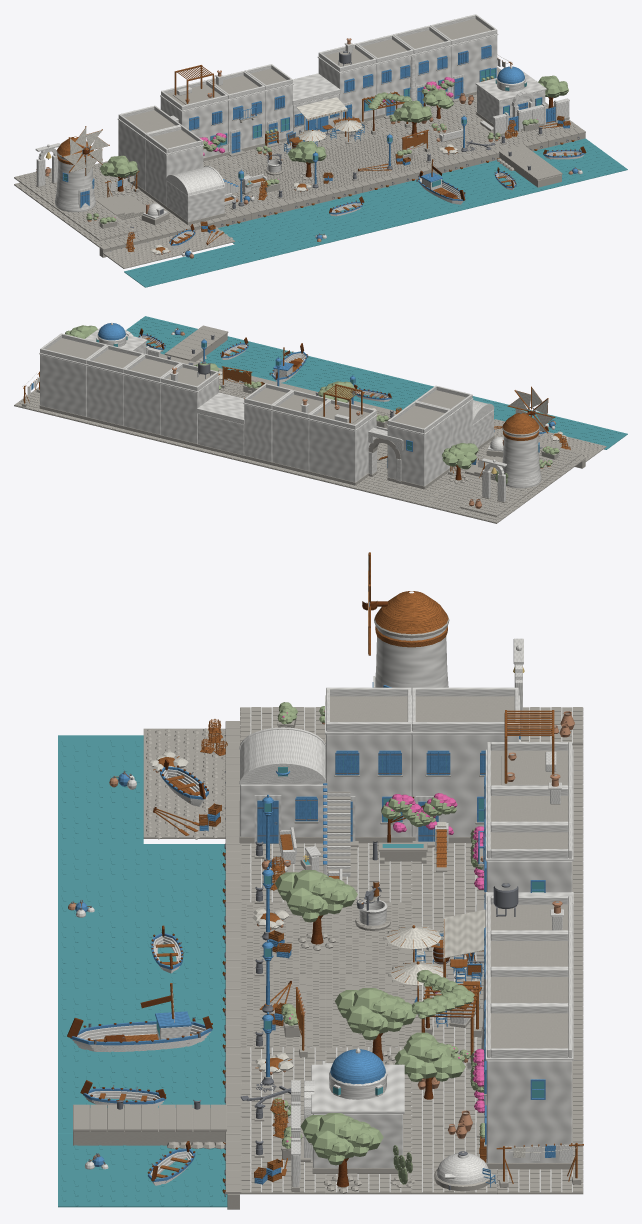
The model's file is greek-island-village-and-harbour-island--f1d7f415-starter-scene.glb.
3 views of the same model, one above another, from view 1: azimuth 30°, elevation 25°; view 2: azimuth 150°, elevation 25°; view 3: azimuth 270°, elevation 25° (orthographic). The views are drawn at different scales.
Parts seen in each view (by area): view 1: 104-barrel-vault-roof-block/0, 102-cube-house-medium/0, 107-cube-house-wide/0, 100-cube-house-medium/0, 096-cube-house-wide/0, 108-domed-chapel/0, 097-cube-house-medium/0, 101-cube-house-corner-block/0, 103-cube-house-wide/0, 119-windmill-tower/0, 106-cube-house-medium/0, 095-stone-jetty/0 (+78 smaller); view 2: 096-cube-house-wide/0, 103-cube-house-wide/0, 107-cube-house-wide/0, 100-cube-house-medium/0, 106-cube-house-medium/0, 101-cube-house-corner-block/0, 097-cube-house-medium/0, 099-taverna-front-with-awning/0, 098-cube-house-narrow/0, 119-windmill-tower/0, 102-cube-house-medium/0, 095-stone-jetty/0 (+49 smaller); view 3: 107-cube-house-wide/0, 103-cube-house-wide/0, 102-cube-house-medium/0, 104-barrel-vault-roof-block/0, 095-stone-jetty/0, 108-domed-chapel/0, 098-cube-house-narrow/0, 107-cube-house-wide/1, 119-windmill-tower/0, 094-sea-water-module/0, 084-sea-water-module/0, 085-sea-water-module/0 (+76 smaller).
Part boxes in pixels (x1,y1,x2,y2): 104-barrel-vault-roof-block/0: (166, 166, 225, 221); 102-cube-house-medium/0: (144, 125, 204, 205); 107-cube-house-wide/0: (430, 14, 498, 99); 100-cube-house-medium/0: (317, 43, 377, 119); 096-cube-house-wide/0: (160, 80, 228, 157); 108-domed-chapel/0: (475, 66, 546, 123); 097-cube-house-medium/0: (207, 71, 265, 153); 101-cube-house-corner-block/0: (356, 34, 416, 115); 103-cube-house-wide/0: (117, 105, 181, 190); 119-windmill-tower/0: (55, 156, 95, 212); 106-cube-house-medium/0: (393, 25, 451, 105); 095-stone-jetty/0: (497, 145, 562, 187); 096-cube-house-wide/0: (308, 399, 377, 482); 103-cube-house-wide/0: (386, 401, 451, 486); 107-cube-house-wide/0: (39, 333, 106, 416); 100-cube-house-medium/0: (160, 363, 219, 443); 106-cube-house-medium/0: (86, 345, 143, 425); 101-cube-house-corner-block/0: (123, 354, 181, 434); 097-cube-house-medium/0: (271, 390, 329, 470); 099-taverna-front-with-awning/0: (197, 392, 244, 455); 098-cube-house-narrow/0: (243, 383, 292, 461); 119-windmill-tower/0: (502, 431, 541, 488); 102-cube-house-medium/0: (415, 385, 473, 446); 095-stone-jetty/0: (164, 325, 228, 363); 107-cube-house-wide/0: (485, 1004, 573, 1162); 103-cube-house-wide/0: (411, 687, 519, 841); 102-cube-house-medium/0: (325, 687, 412, 841); 104-barrel-vault-roof-block/0: (239, 727, 326, 843); 095-stone-jetty/0: (73, 1104, 226, 1149); 108-domed-chapel/0: (304, 1048, 404, 1167); 098-cube-house-narrow/0: (485, 823, 573, 892); 107-cube-house-wide/1: (476, 1013, 572, 1169); 119-windmill-tower/0: (373, 628, 448, 695); 094-sea-water-module/0: (58, 1170, 143, 1207); 084-sea-water-module/0: (58, 807, 143, 843); 085-sea-water-module/0: (58, 844, 143, 880).
Bounding box in the file's own units: 53.65 × 10.55 × 24.54.
Materials: 12 (7 with a texture image).
